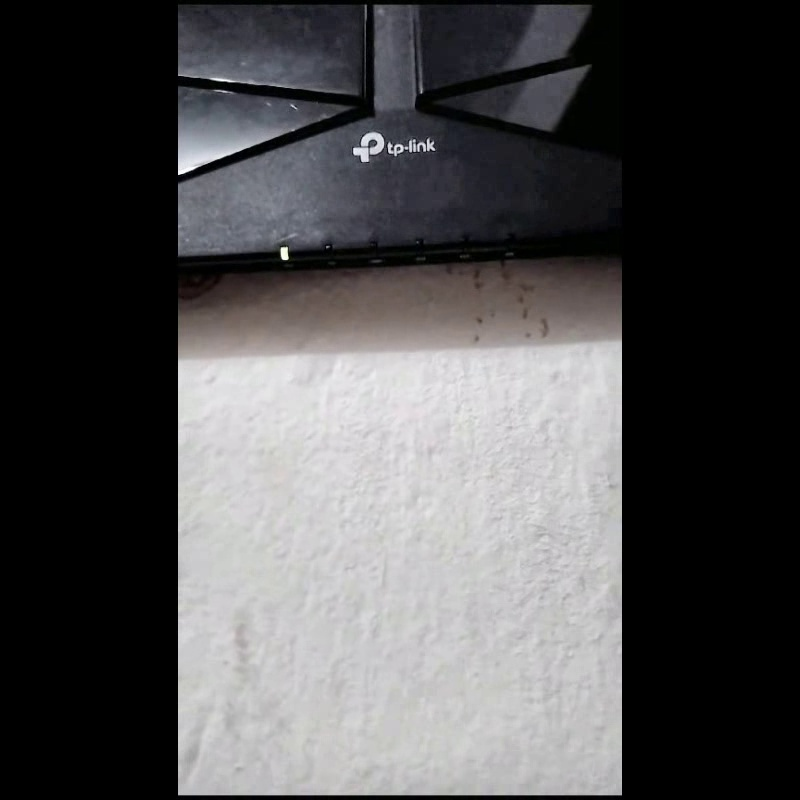off: (459, 234, 469, 253), (322, 242, 333, 259), (505, 233, 514, 251), (369, 238, 378, 255), (414, 237, 423, 253)
on_green: (279, 245, 289, 262)
